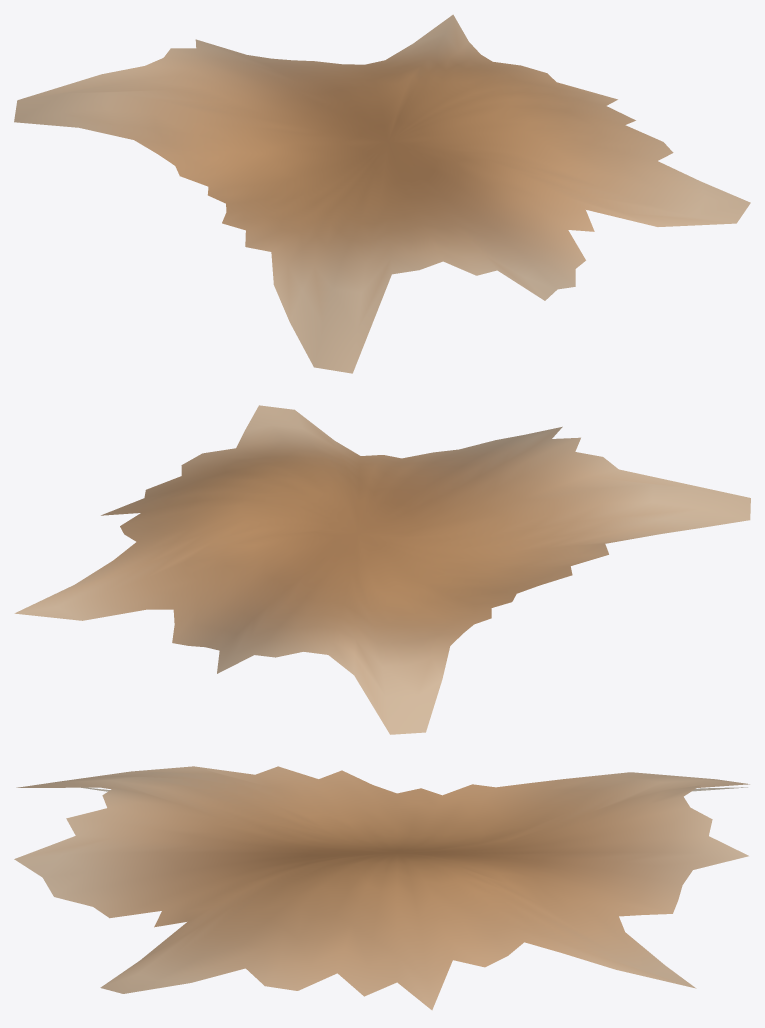
File: hide_stag.glb
3 views of the same model, one above another, from view 1: azimuth 30°, elevation 25°; view 2: azimuth 150°, elevation 25°; view 3: azimuth 270°, elevation 25° (orthographic). The views are drawn at different scales.
Parts seen in each view (by area): view 1: hide_stag; view 2: hide_stag; view 3: hide_stag.
Part boxes in pixels (x1,y1,x2,y2): hide_stag: (14, 14, 750, 373); hide_stag: (14, 405, 750, 734); hide_stag: (14, 766, 749, 1010).
Bounding box in the file's own units: 0.6195 × 0.0882 × 0.78.
2 materials, 1 textured.
